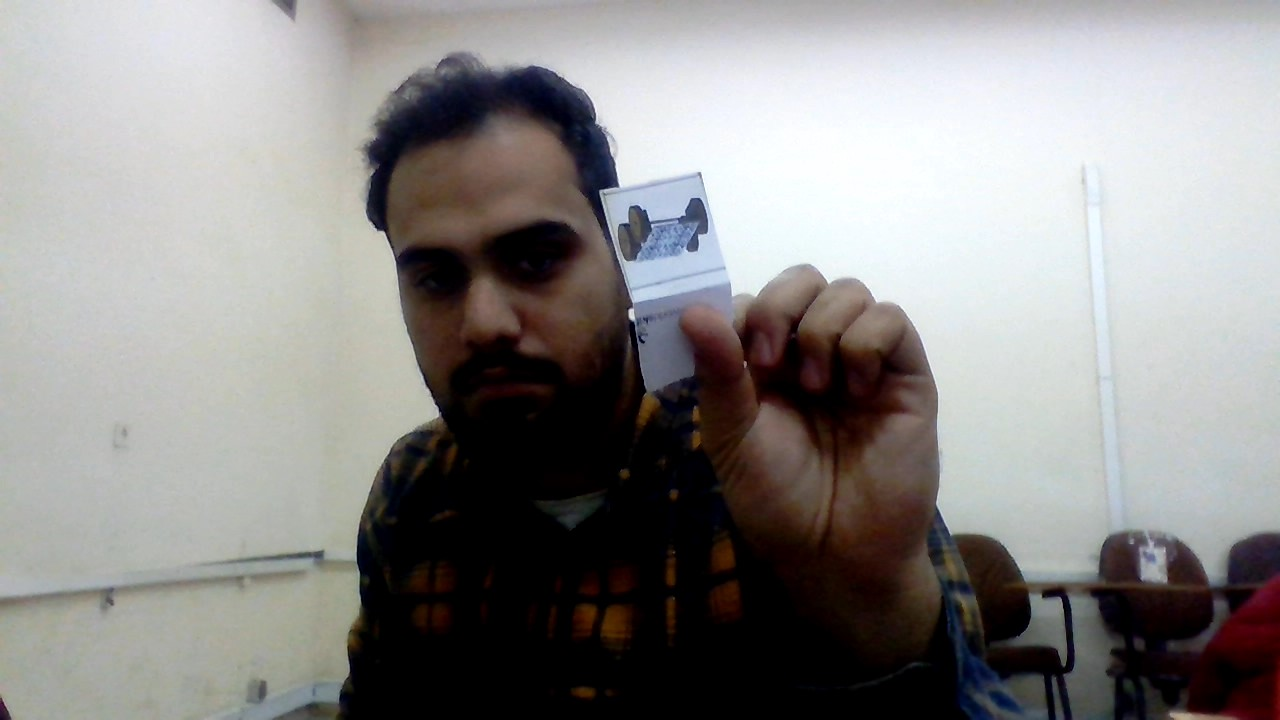pg: (612, 189, 712, 271)
